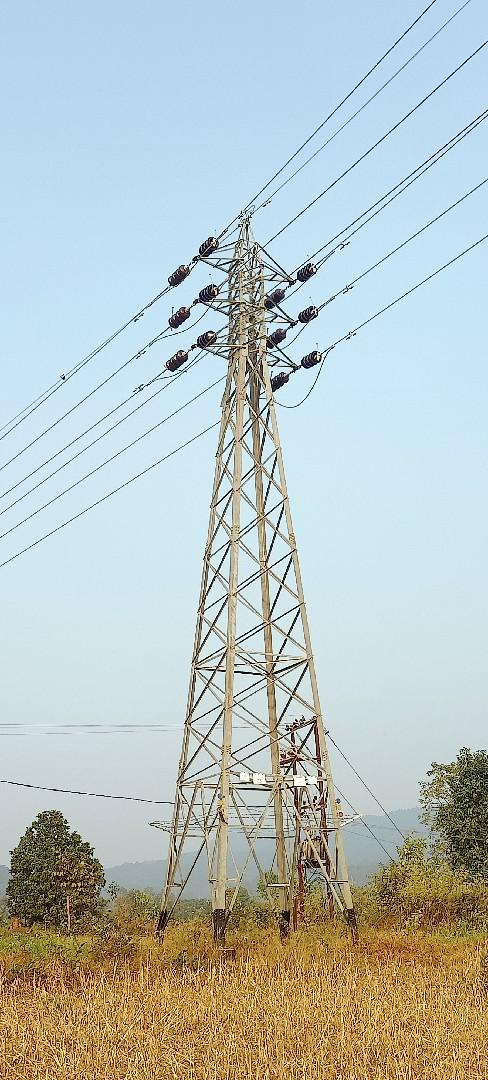GSM Antenna: (143, 205, 371, 897)
